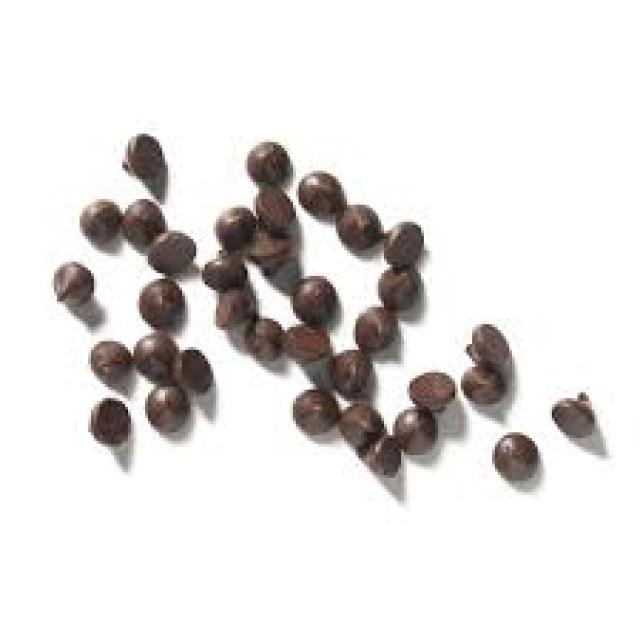Chocolate: (51, 130, 599, 485)
